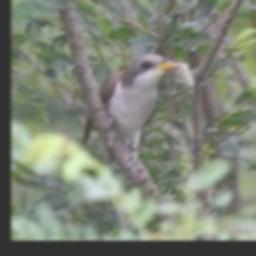Cuckoo: (84, 54, 180, 151)
